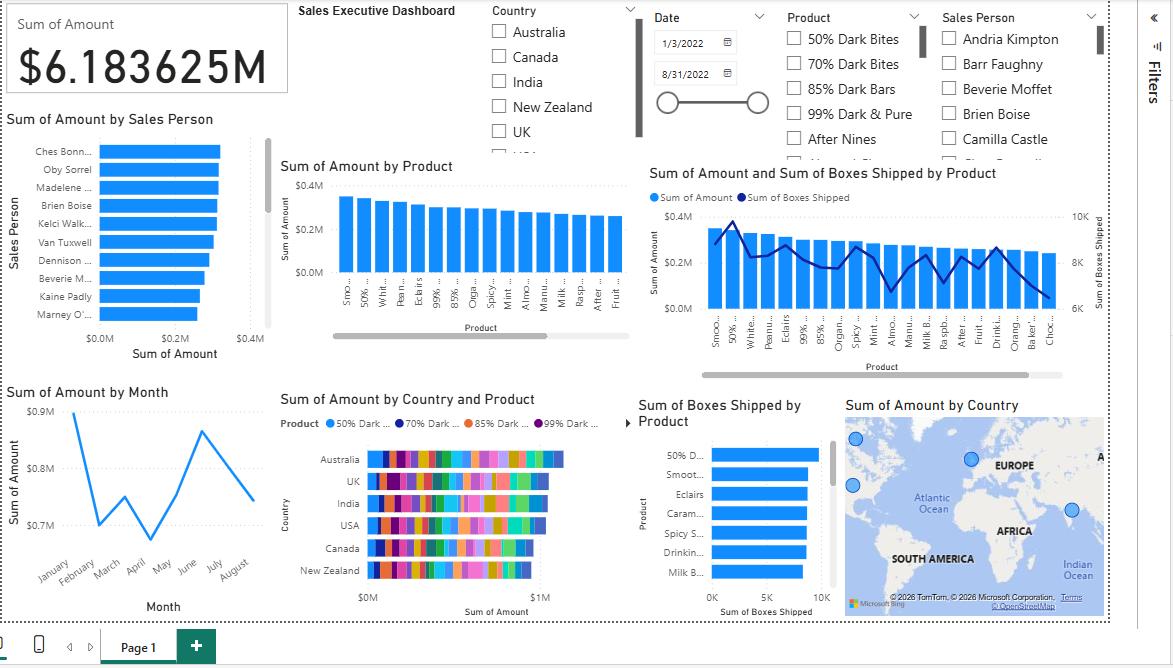

The page's visual inventory and layout, read from the dashboard file:
{"tool":"powerbi","page":{"name":"Page 1","canvas":[1280,720],"ordinal":0},"visuals":[{"type":"clusteredBarChart","fields":{"Category":["Chocolate Sales.Sales Person"],"Y":["Chocolate Sales.Amount"]},"box":[0,128.5,317.2,295.2],"z":0},{"type":"clusteredColumnChart","fields":{"Category":["Chocolate Sales.Product"],"Y":["Chocolate Sales.Amount"]},"box":[317.2,182.9,414.4,216.5],"z":2},{"type":"lineChart","fields":{"Category":["Chocolate Sales.Date.Variation.Date Hierarchy.Month"],"Y":["Chocolate Sales.Amount"]},"box":[0,444.5,307.9,272],"z":3},{"type":"barChart","fields":{"Category":["Chocolate Sales.Country"],"Y":["Chocolate Sales.Amount"],"Series":["Chocolate Sales.Product"]},"box":[317.2,452.6,427.1,267.4],"z":4},{"type":"lineStackedColumnComboChart","fields":{"Category":["Chocolate Sales.Product"],"Y":["Chocolate Sales.Amount"],"Y2":["Chocolate Sales.Boxes Shipped"]},"box":[744.3,191,535.9,253.5],"z":5},{"type":"map","fields":{"Category":["Chocolate Sales.Country"],"Size":["Chocolate Sales.Amount"]},"box":[971.2,459.5,309.1,260.5],"z":6},{"type":"clusteredBarChart","fields":{"Category":["Chocolate Sales.Product"],"Y":["Chocolate Sales.Boxes Shipped"]},"box":[731.6,459.5,239.6,260.5],"z":7},{"type":"cardVisual","fields":{"Data":["Chocolate Sales.Amount"]},"box":[0,0,336.8,114.6],"z":8},{"type":"slicer","fields":{"Values":["Chocolate Sales.Country"]},"box":[554.5,0,192.2,182.9],"z":9},{"type":"slicer","fields":{"Values":["Chocolate Sales.Date"]},"box":[742,8.1,154,182.9],"z":10},{"type":"slicer","fields":{"Values":["Chocolate Sales.Product"]},"box":[895.9,8.1,179.4,182.9],"z":11},{"type":"slicer","fields":{"Values":["Chocolate Sales.Sales Person"]},"box":[1075.4,8.1,204.9,182.9],"z":12},{"type":"textbox","box":[336.8,0,194.5,57.9],"z":13}]}

Visuals, with their boxes on the page's 1280x720 design canvas (x1, y1, x2, y2). These are canvas units, not pixel positions in the 1173x668 screenshot, which may show the page scaled, cropped or inside an application window:
clusteredBarChart - Chocolate Sales.Sales Person x Chocolate Sales.Amount: [x1=0, y1=128, x2=317, y2=424]
clusteredColumnChart - Chocolate Sales.Product x Chocolate Sales.Amount: [x1=317, y1=183, x2=732, y2=399]
lineChart - Chocolate Sales.Date.Variation.Date Hierarchy.Month x Chocolate Sales.Amount: [x1=0, y1=444, x2=308, y2=716]
barChart - Chocolate Sales.Country x Chocolate Sales.Amount: [x1=317, y1=453, x2=744, y2=720]
lineStackedColumnComboChart - Chocolate Sales.Product x Chocolate Sales.Amount: [x1=744, y1=191, x2=1280, y2=444]
map - Chocolate Sales.Country x Chocolate Sales.Amount: [x1=971, y1=460, x2=1280, y2=720]
clusteredBarChart - Chocolate Sales.Product x Chocolate Sales.Boxes Shipped: [x1=732, y1=460, x2=971, y2=720]
cardVisual - Chocolate Sales.Amount: [x1=0, y1=0, x2=337, y2=115]
slicer - Chocolate Sales.Country: [x1=554, y1=0, x2=747, y2=183]
slicer - Chocolate Sales.Date: [x1=742, y1=8, x2=896, y2=191]
slicer - Chocolate Sales.Product: [x1=896, y1=8, x2=1075, y2=191]
slicer - Chocolate Sales.Sales Person: [x1=1075, y1=8, x2=1280, y2=191]
textbox: [x1=337, y1=0, x2=531, y2=58]
